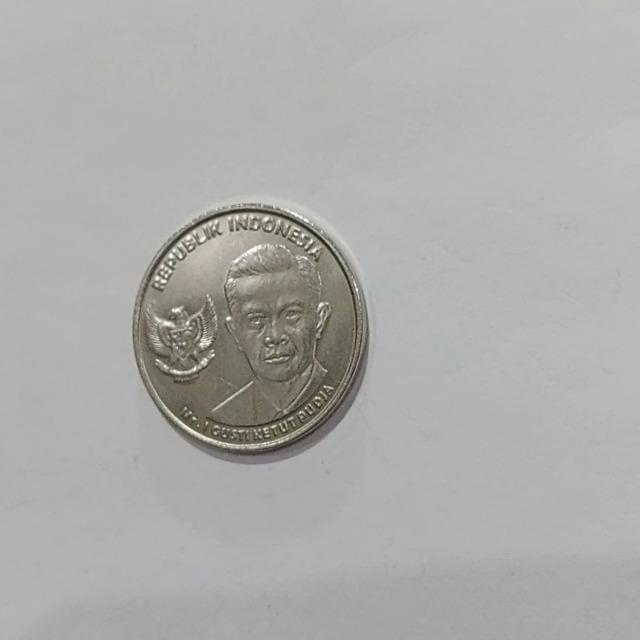Rp100: (132, 199, 370, 456), (201, 240, 336, 431)
